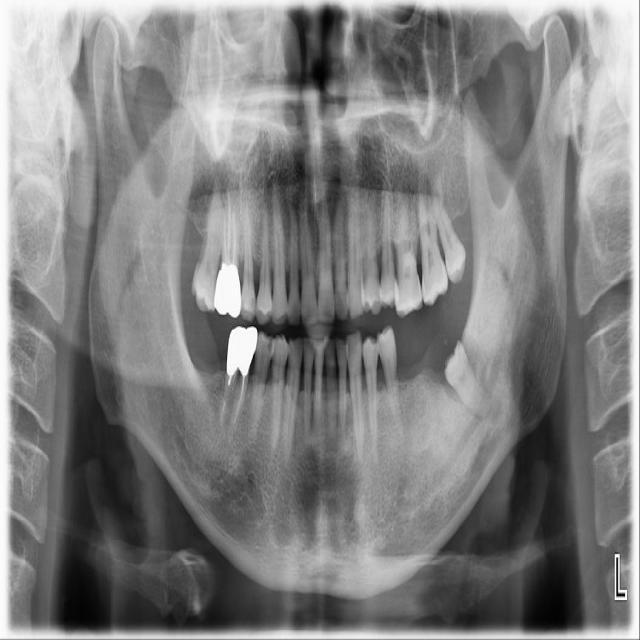52: (211, 264, 247, 320), (225, 324, 260, 378), (266, 337, 274, 356)
73: (214, 363, 250, 442), (218, 185, 239, 267), (574, 572, 577, 578)
BioHorizons Implant: (417, 191, 451, 307)
BioLife Implant: (428, 183, 474, 288)
Caries: (189, 179, 230, 312)
